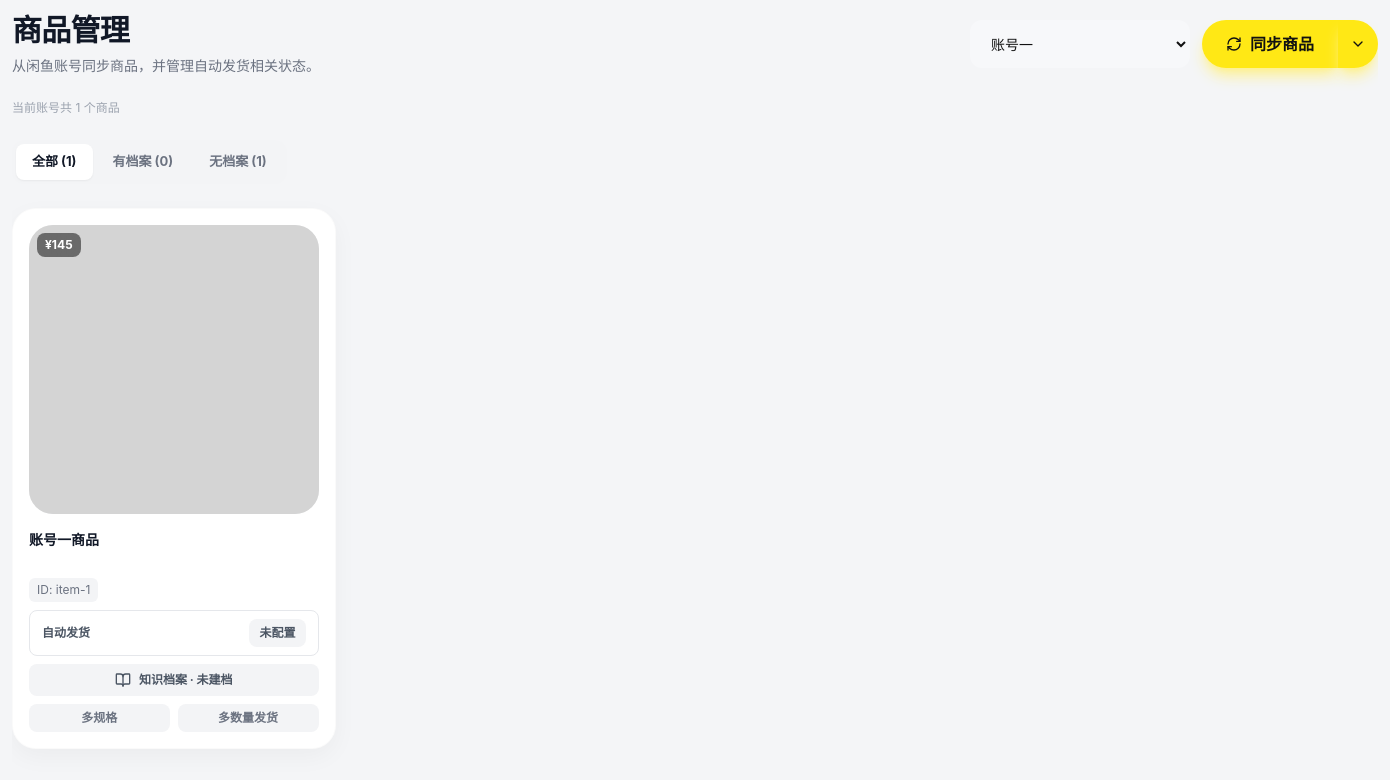
Scenario: ItemList account filtering › 切换账号只重载列表，不让主同步按钮进入加载态
Expected: the heading "账号一商品" is shown, [29,531,99,548]
Select "账号二" in the dropdown named "商品账号": (1080, 44) [970,20,1190,68]
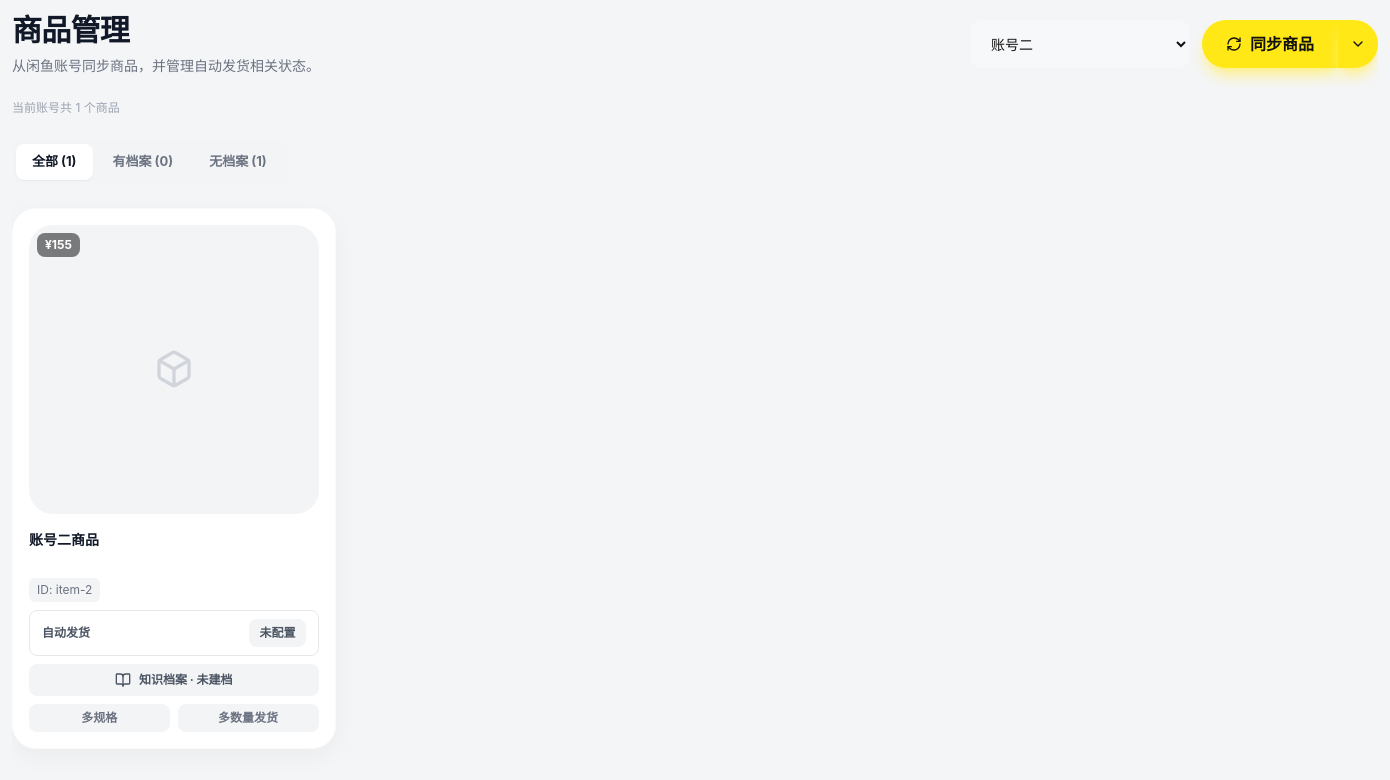
Expected: the button "同步商品" is enabled, [1202,20,1338,68]
Now the heading "账号二商品" is shown, box [29,531,99,548]
